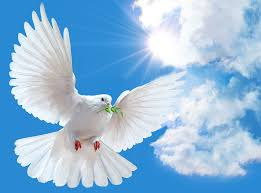ворон: (8, 6, 188, 187)
